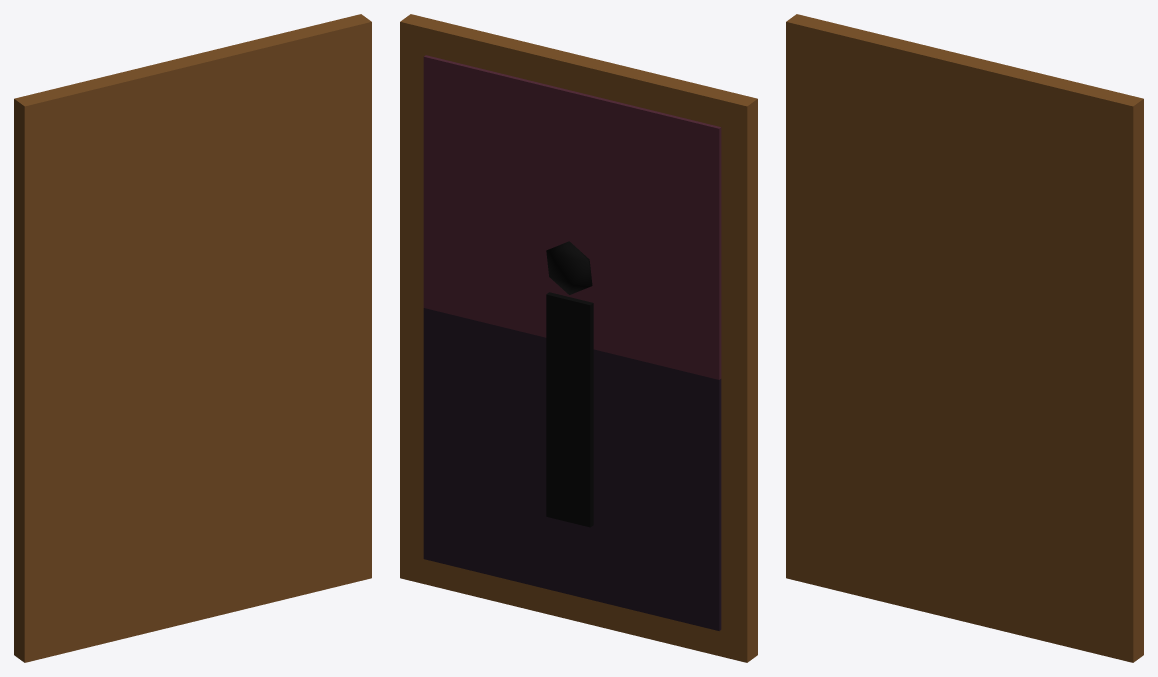
File: dark_soul_reaper_v0.glb
The picture shows the model from 3 angles, left to right: view 1: azimuth 30°, elevation 25°; view 2: azimuth 150°, elevation 25°; view 3: azimuth 330°, elevation 25°; orthographic projection.
Parts seen in each view (by area): view 1: dark_soul_reaper_v0; view 2: dark_soul_reaper_v0; view 3: dark_soul_reaper_v0.
Boxes of the visible parts, x1=… form: dark_soul_reaper_v0: x1=14, y1=14, x2=371, y2=662; dark_soul_reaper_v0: x1=400, y1=14, x2=757, y2=662; dark_soul_reaper_v0: x1=786, y1=14, x2=1143, y2=662.
Bounding box in the file's own units: 0.94 × 1.44 × 0.0819.
